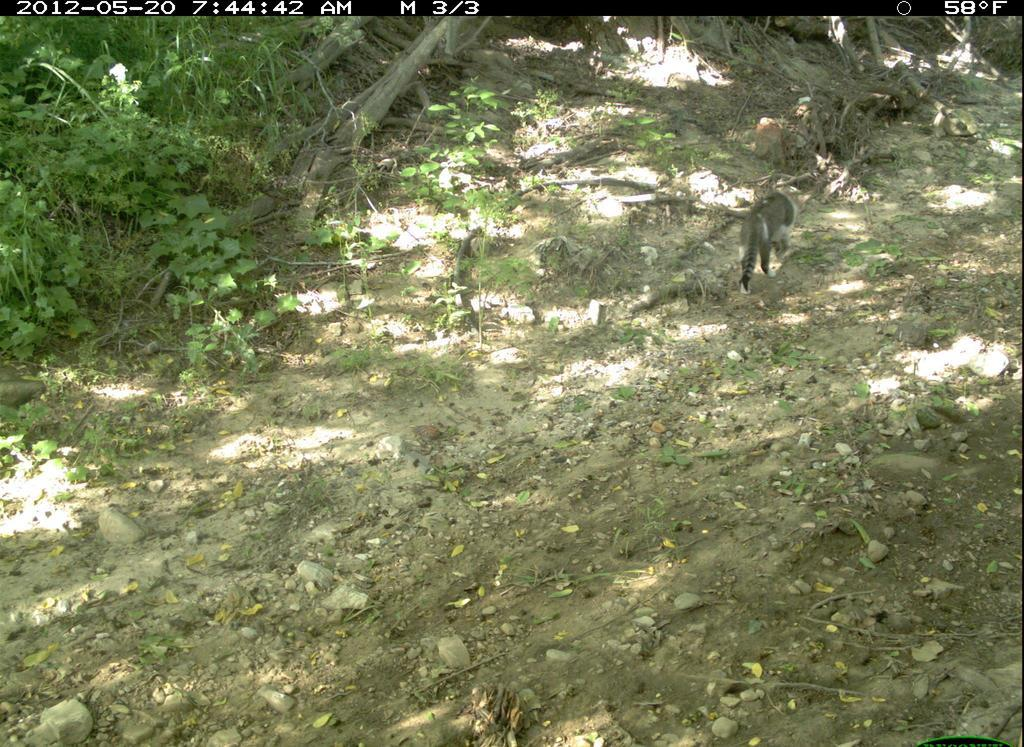cat: (725, 177, 806, 308)
